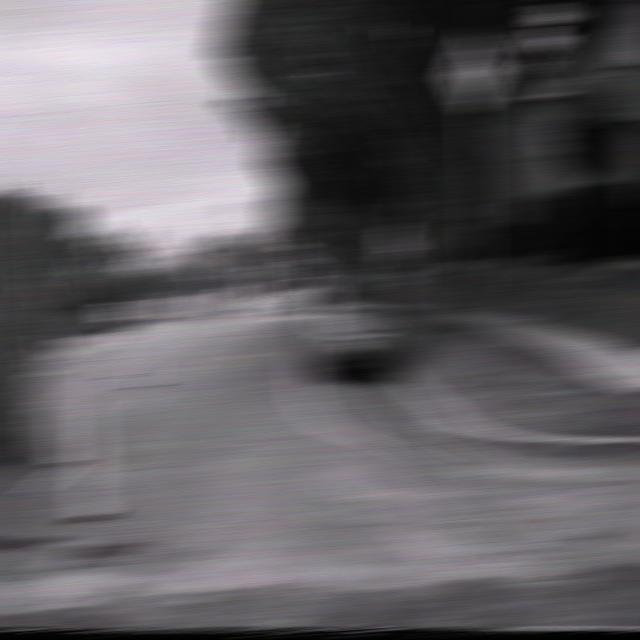pedestrianCrossing: (442, 25, 504, 115), (186, 250, 214, 272)
